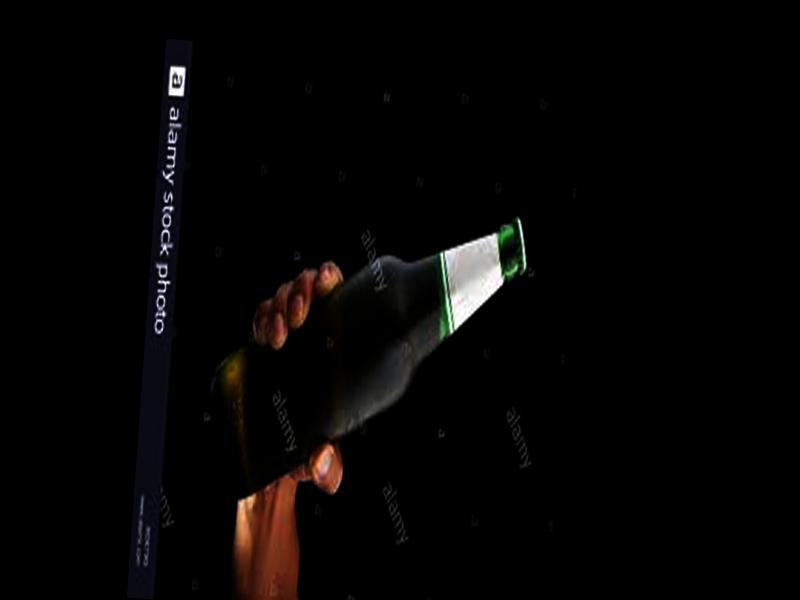Beer: (199, 192, 532, 517)
